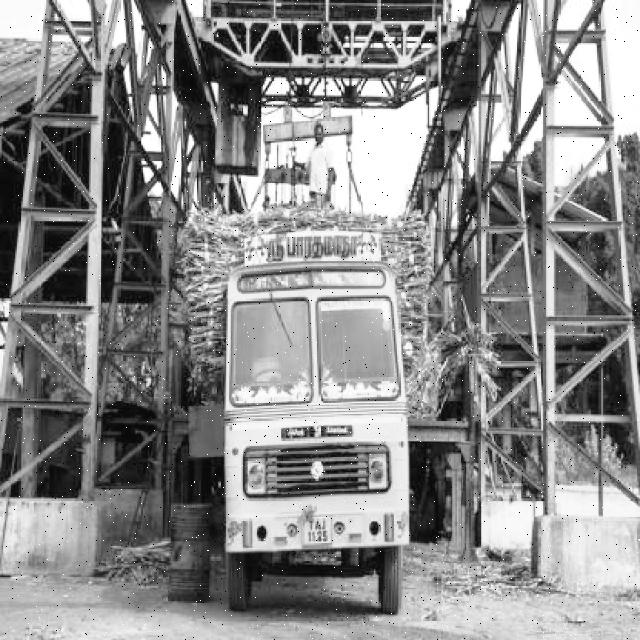HCV: (242, 237, 418, 603)
